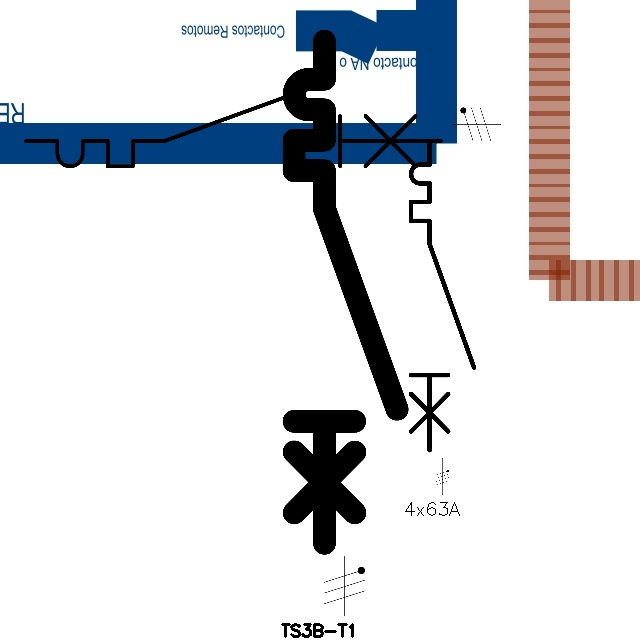interruptor_termomagnetico: (281, 28, 410, 556), (15, 70, 452, 177), (403, 133, 482, 458)
